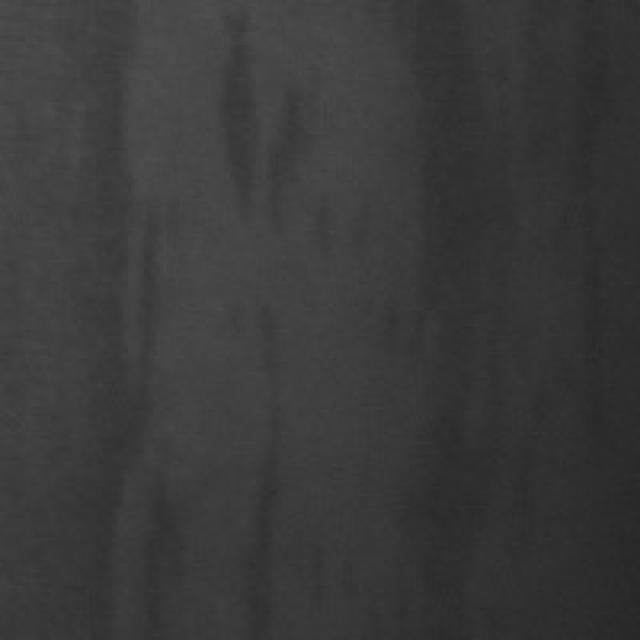inclusion: (381, 6, 518, 628), (22, 6, 150, 628), (214, 285, 301, 630), (554, 3, 614, 467), (198, 3, 298, 243)
